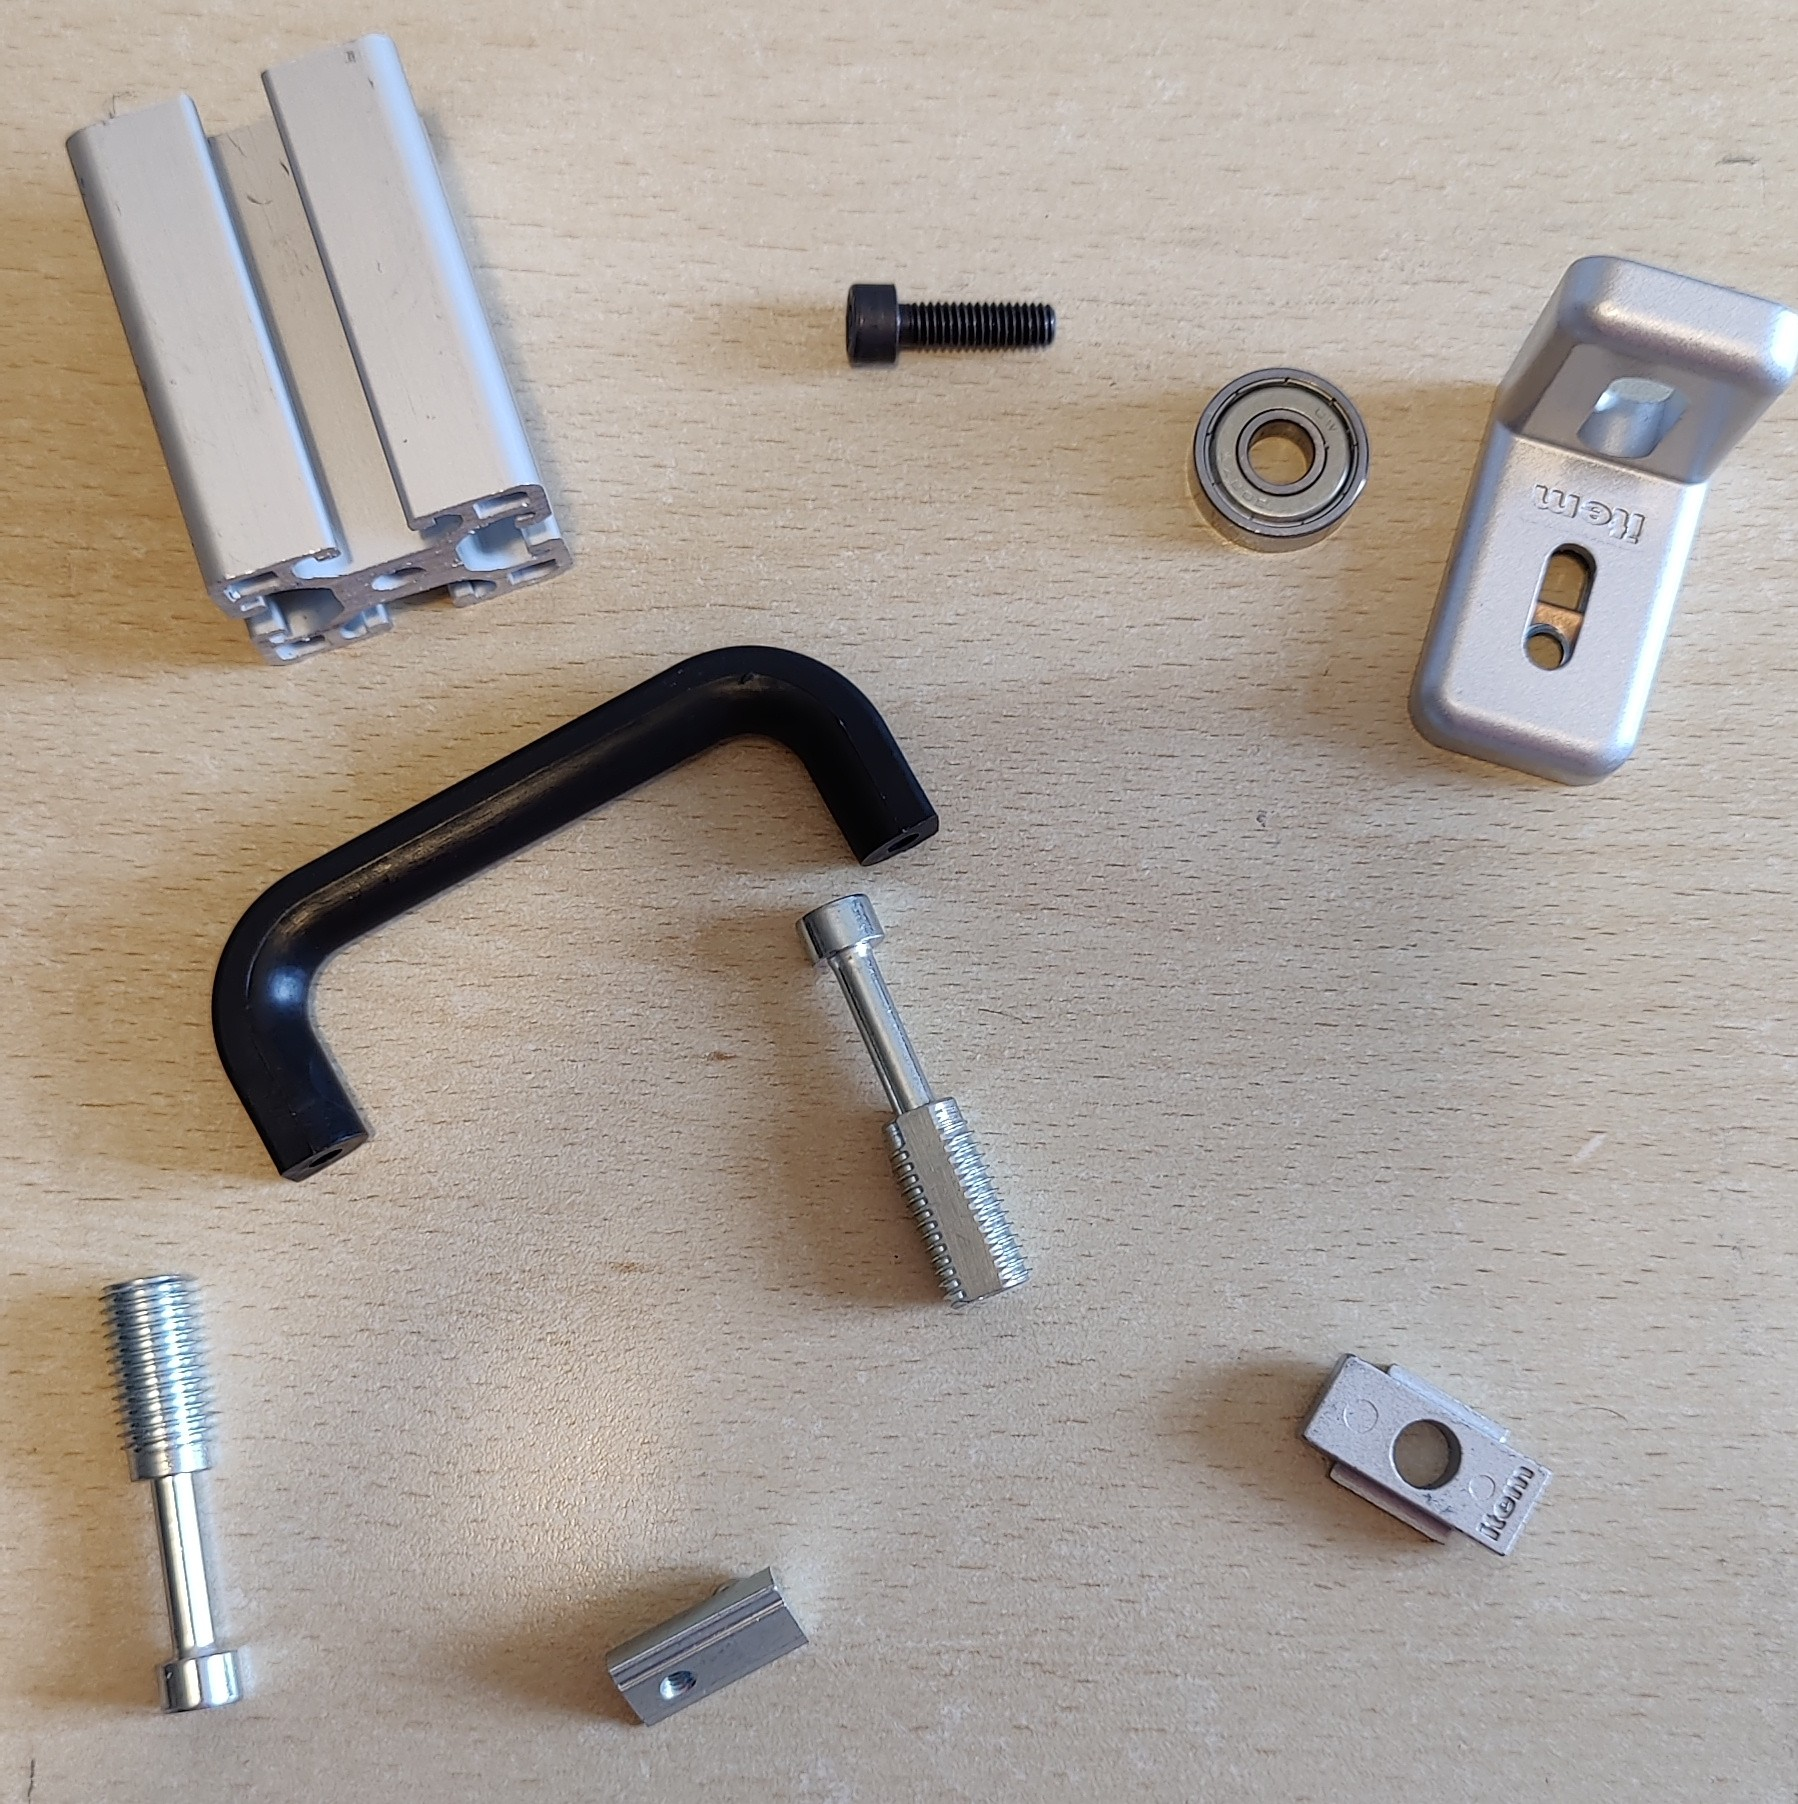Aluminium Extension: (63, 30, 575, 668)
Ball Bearing: (1185, 365, 1370, 556)
Multiwinkel: (1406, 257, 1798, 790)
Pull Handle: (211, 640, 942, 1183)
Shoulder Socket Head Cap Screw: (792, 894, 1036, 1315), (92, 1267, 250, 1715)
Socket Head Cap Screw: (840, 277, 1060, 370)
T Nut Square: (1296, 1350, 1554, 1562)
T Spring Nut: (599, 1562, 817, 1730)
